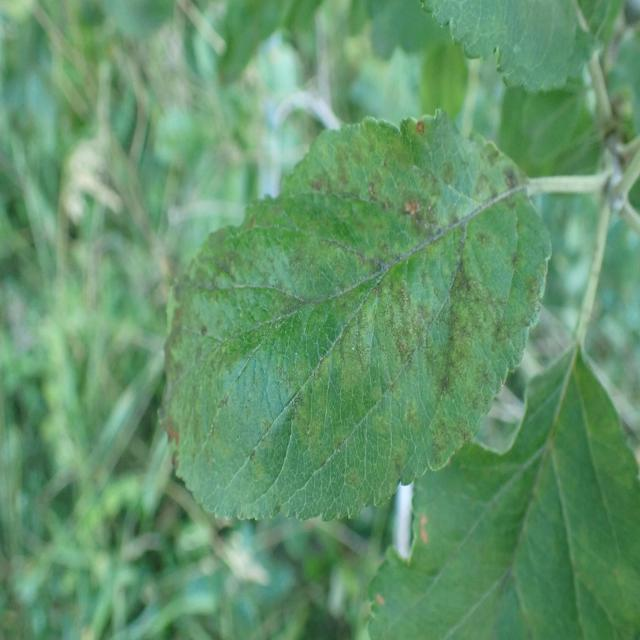scab: (149, 127, 539, 460)
